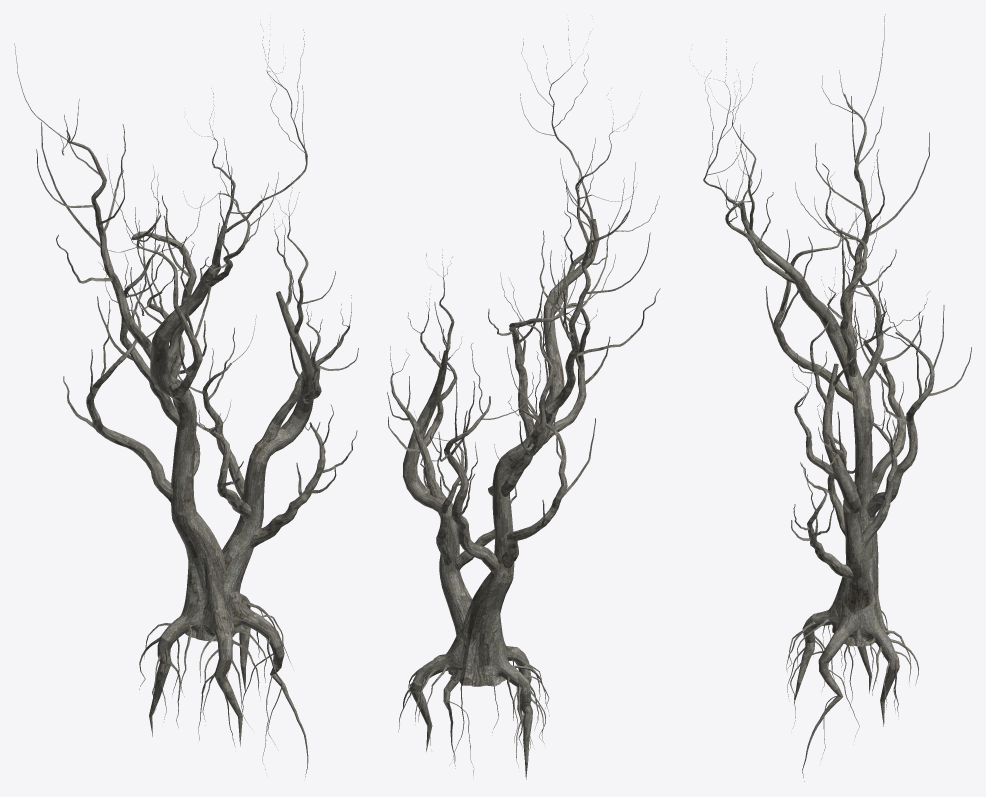
File: Arbol2.fbx
3 views of the same model, side by side, from view 1: azimuth 30°, elevation 25°; view 2: azimuth 150°, elevation 25°; view 3: azimuth 270°, elevation 25° (orthographic). The views are drawn at different scales.
Parts seen in each view (by area): view 1: Arbol2; view 2: Arbol2; view 3: Arbol2.
Part boxes in pixels (box(x1,y1,x2,y2)): Arbol2: box(14, 24, 358, 778); Arbol2: box(387, 20, 660, 779); Arbol2: box(692, 14, 971, 781).
Bounding box in the file's own units: 4.54 × 11.54 × 4.14.
